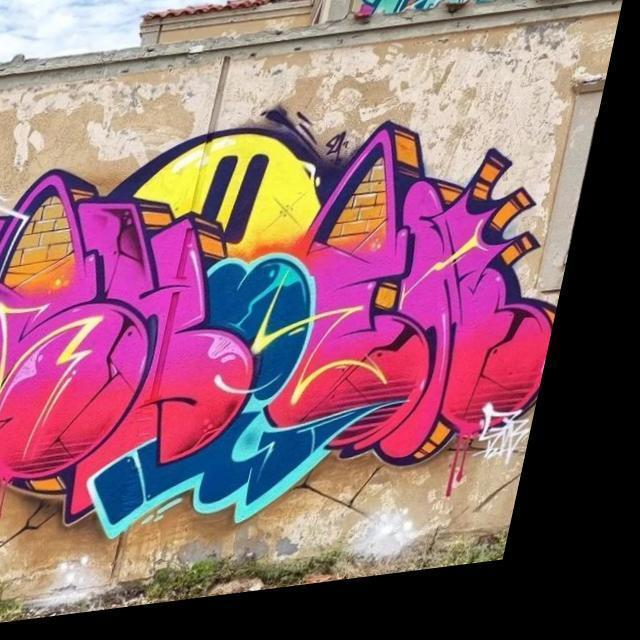nonspitting: (0, 103, 555, 540)
